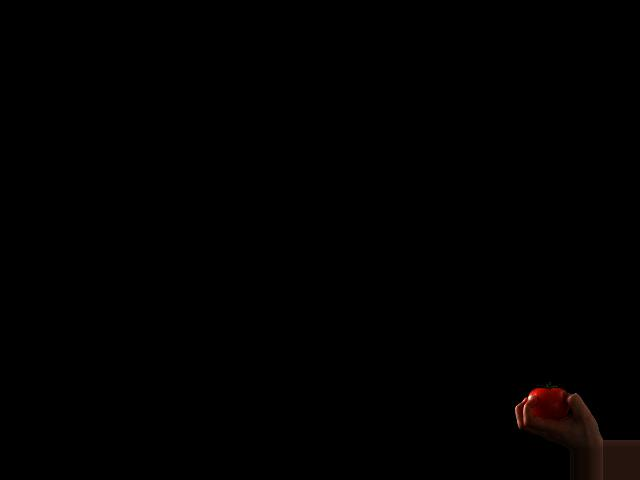tomato: (528, 383, 569, 418)
